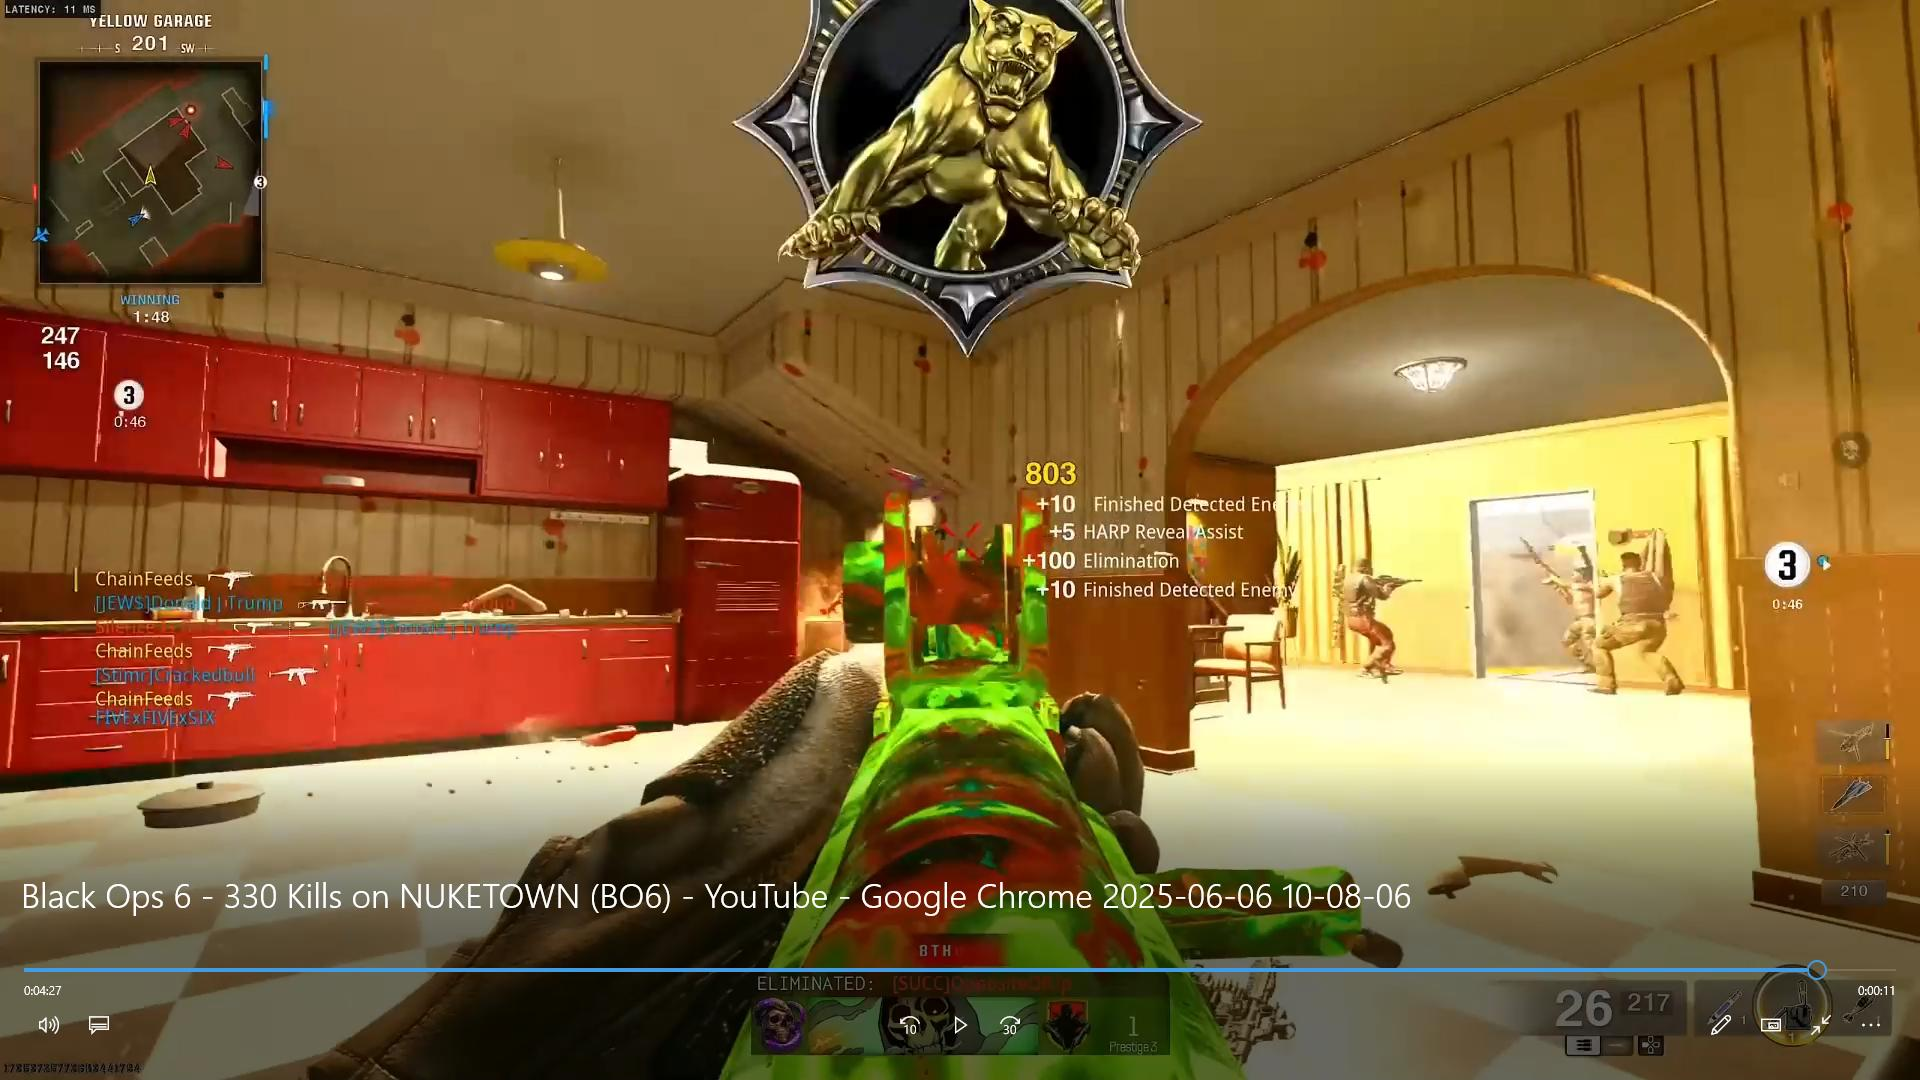Enemy: (1605, 543, 1692, 692), (1331, 550, 1422, 687), (1523, 531, 1597, 678)
